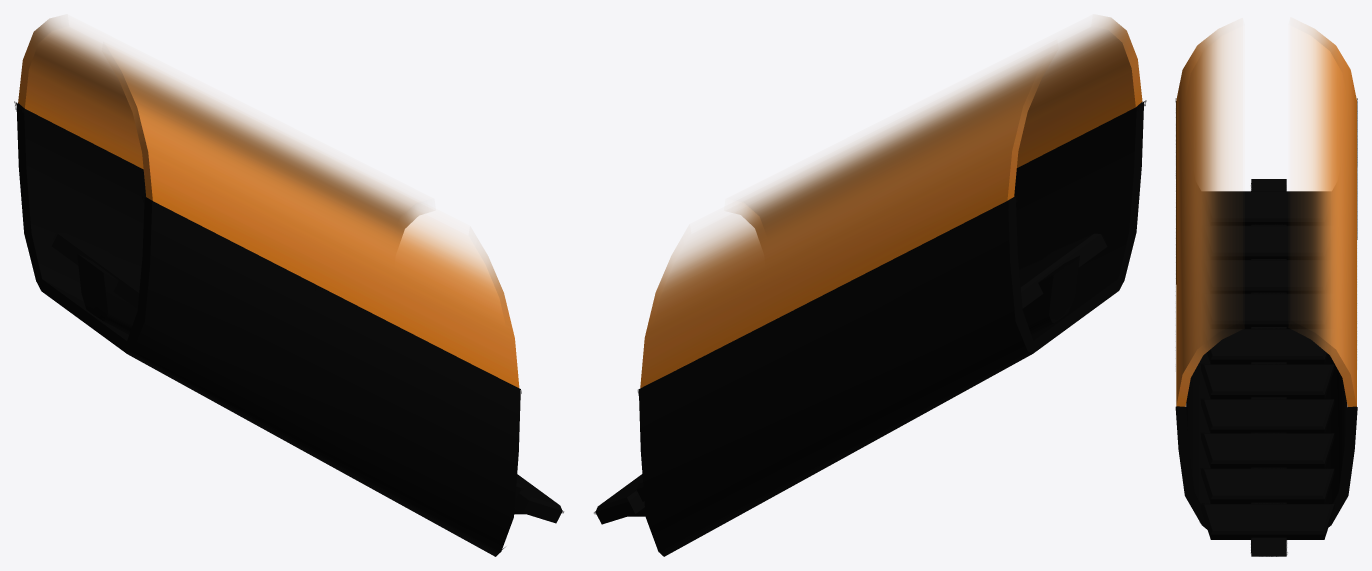
The model's file is stairs.glb.
3 renders of one model, left to right at view 1: azimuth 30°, elevation 25°; view 2: azimuth 150°, elevation 25°; view 3: azimuth 270°, elevation 25°, orthographic. The views are drawn at different scales.
Visible parts, largest first — view 1: Stairs; view 2: Stairs; view 3: Stairs.
Part boxes in pixels (<box>): Stairs: <box>14,17,563,556</box>; Stairs: <box>594,17,1146,556</box>; Stairs: <box>1175,26,1357,556</box>.
Size of the model in its own units: 6.25 by 7.72 by 3.22.
3 materials, 2 textured.
